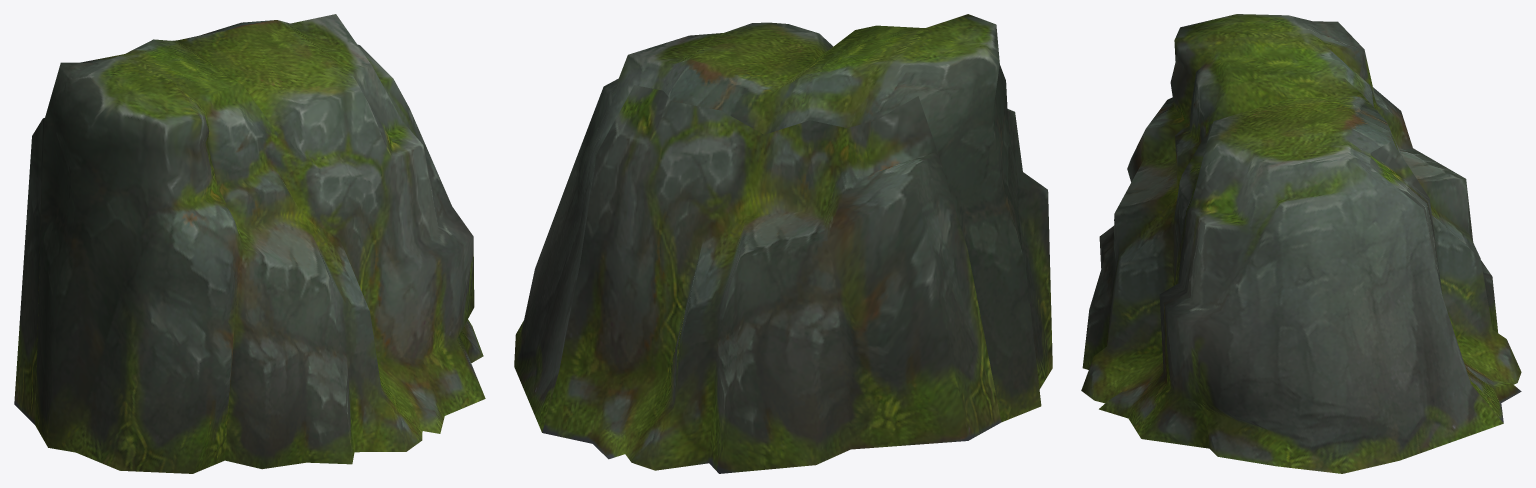
File: shitou01_01.FBX
The picture shows the model from 3 angles, left to right: view 1: azimuth 30°, elevation 25°; view 2: azimuth 150°, elevation 25°; view 3: azimuth 270°, elevation 25°; orthographic projection. The views are drawn at different scales.
Parts seen in each view (by area): view 1: shitou01_01; view 2: shitou01_01; view 3: shitou01_01.
Part boxes in pixels (x1,y1,x2,y2): shitou01_01: (14, 14, 485, 473); shitou01_01: (514, 14, 1052, 473); shitou01_01: (1081, 14, 1521, 473).
Size of the model in its own units: 1965 by 1384 by 1875.
